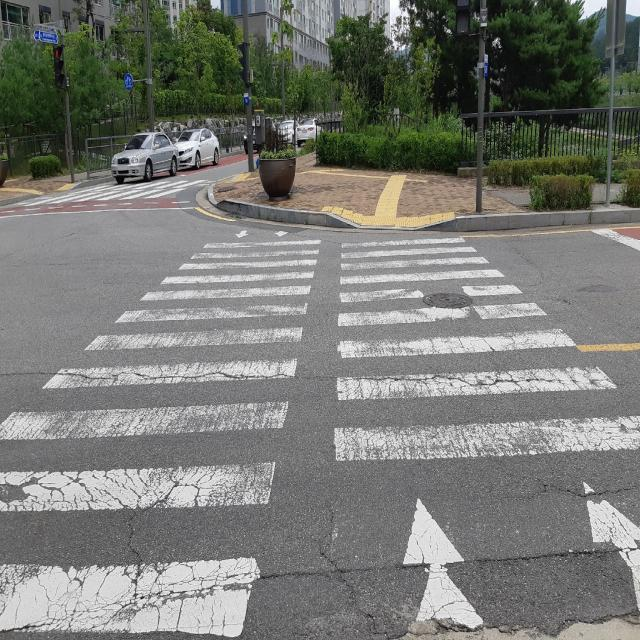빨간불: (54, 48, 63, 86)
횡단보도: (0, 229, 640, 640), (62, 185, 196, 195)
